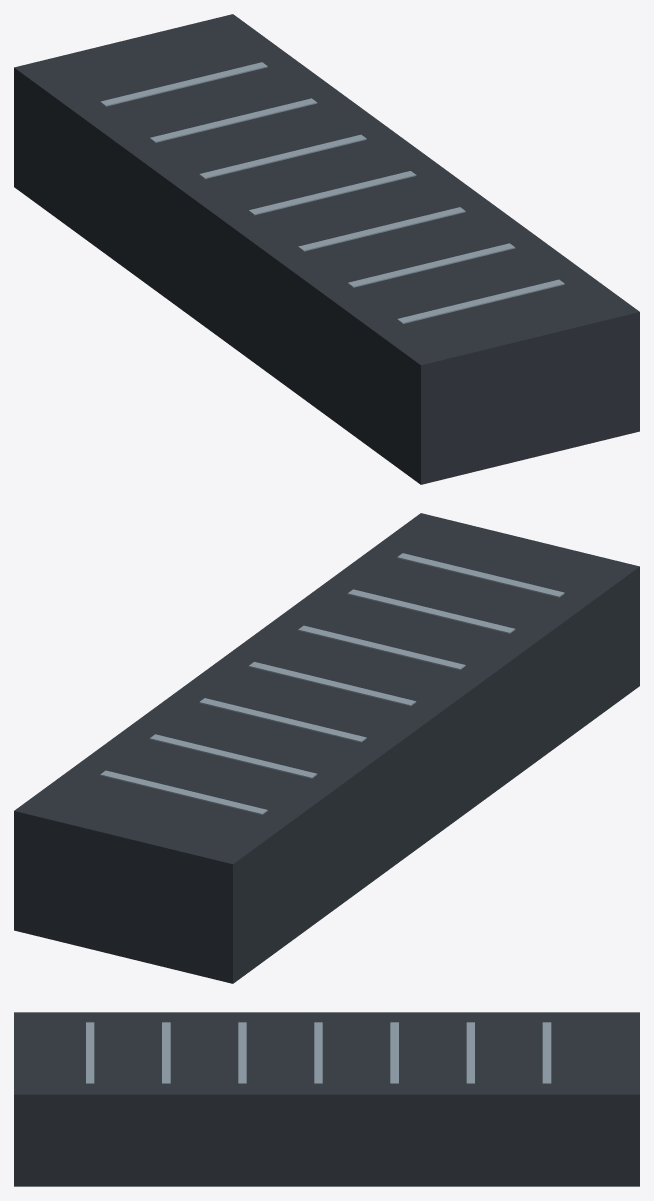
Rendered from 146_L110_IO_BrushedAluminumShroud.fbx.
3 views of the same model, one above another, from view 1: azimuth 30°, elevation 25°; view 2: azimuth 150°, elevation 25°; view 3: azimuth 270°, elevation 25° (orthographic). The views are drawn at different scales.
Visible parts, largest first — view 1: L110_IO_BrushedAluminumShroud_DARK_METAL, L110_IO_BrushedAluminumShroud_ALUMINUM; view 2: L110_IO_BrushedAluminumShroud_DARK_METAL, L110_IO_BrushedAluminumShroud_ALUMINUM; view 3: L110_IO_BrushedAluminumShroud_DARK_METAL, L110_IO_BrushedAluminumShroud_ALUMINUM.
Boxes of the visible parts, x1,y1,x2,y2 form: L110_IO_BrushedAluminumShroud_DARK_METAL: [14, 14, 639, 484]; L110_IO_BrushedAluminumShroud_ALUMINUM: [100, 62, 564, 323]; L110_IO_BrushedAluminumShroud_DARK_METAL: [14, 513, 639, 983]; L110_IO_BrushedAluminumShroud_ALUMINUM: [100, 553, 564, 814]; L110_IO_BrushedAluminumShroud_DARK_METAL: [14, 1012, 639, 1186]; L110_IO_BrushedAluminumShroud_ALUMINUM: [86, 1022, 551, 1083].
Bounding box in the file's own units: 23 × 74 × 12.11.
